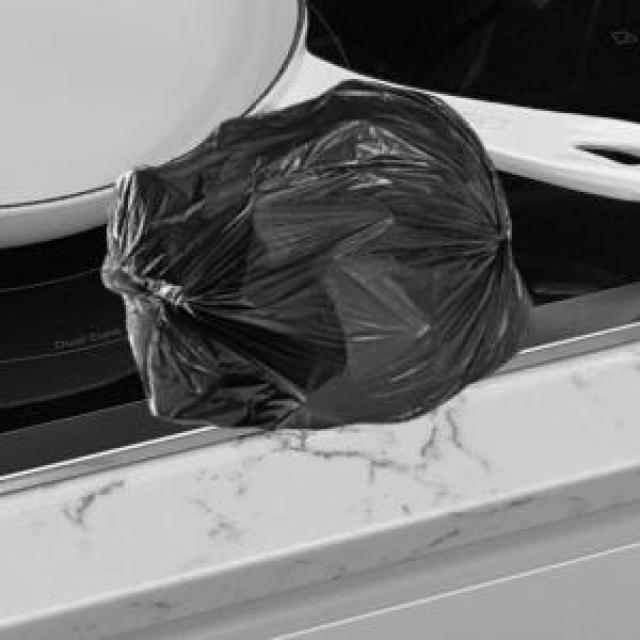miscellaneous trash: (98, 77, 527, 427)
